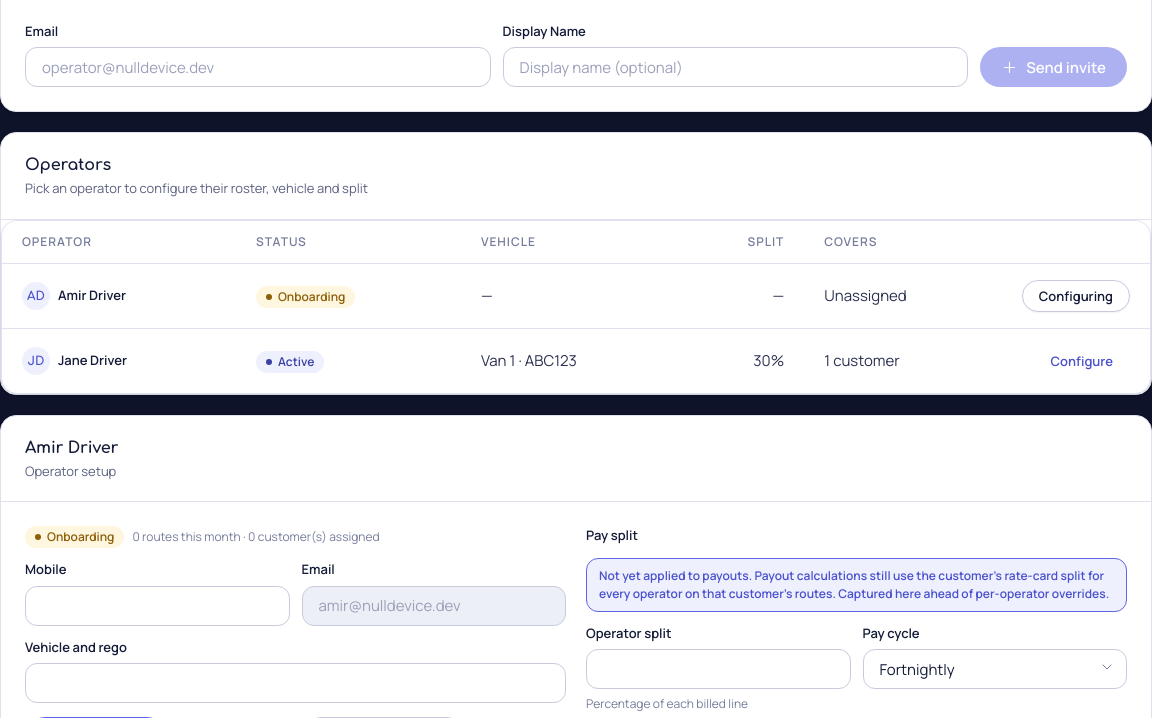
Test: Administrator Operators page › computes the route-based stat tiles and the per-driver monthly route count
The width and height of the screenshot is (1152, 718).
(page scrolled)
expect the text "Van 1 · ABC123" is shown: met, box [461,329,680,393]
Click the button with aria-label "Configure Jane Driver": (1082, 361) [1034,345,1130,377]
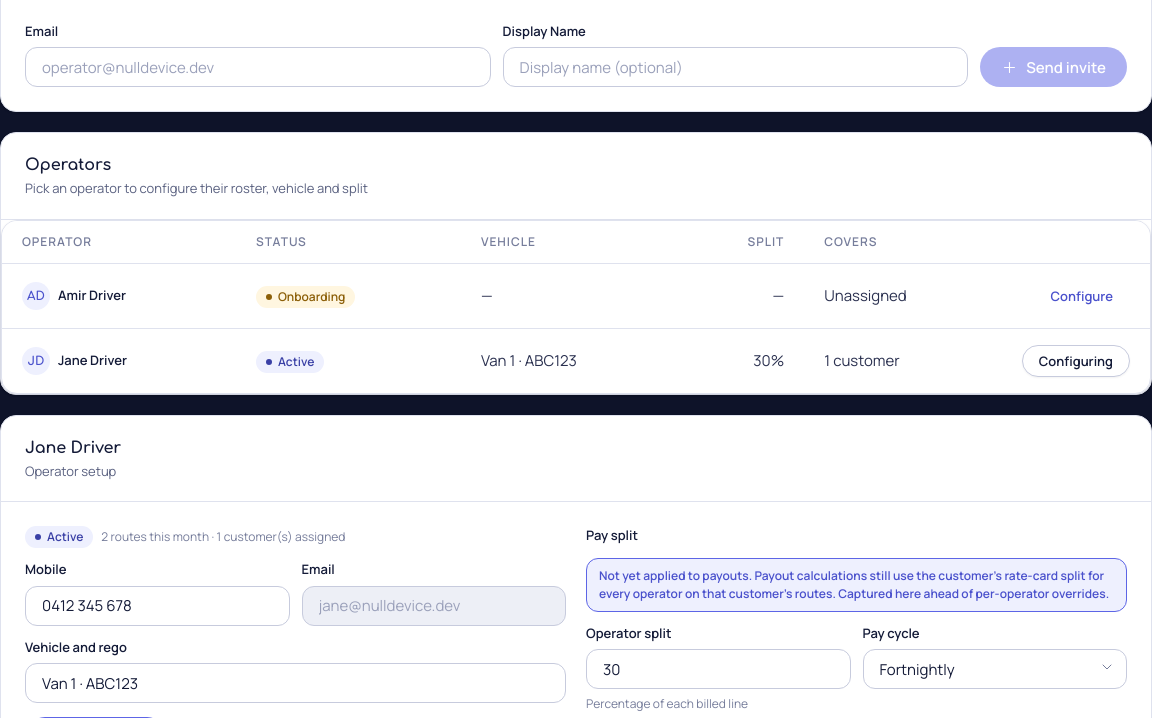
expect the text "2 routes this month · 1 customer(s) assigned" is shown: met, box [101,528,345,546]
